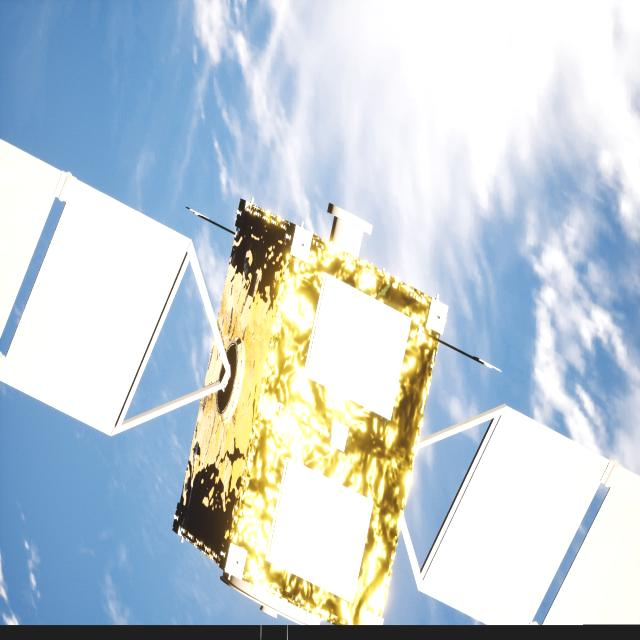medium_debris: (0, 140, 640, 626)
